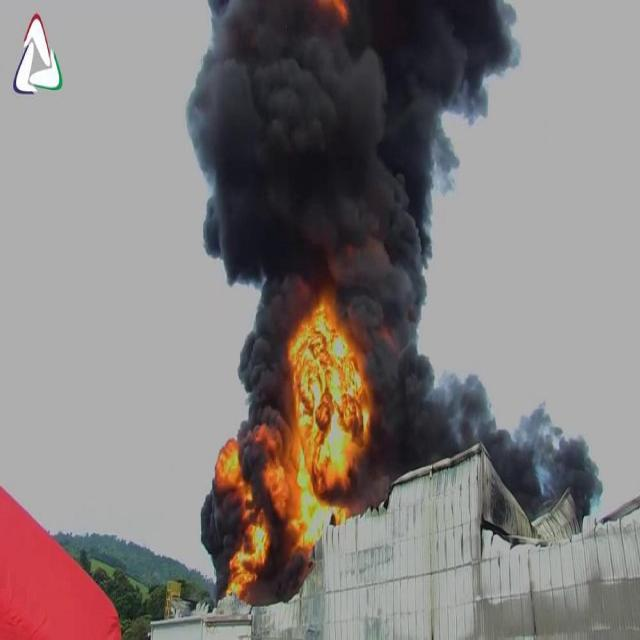Fire: (288, 303, 366, 549), (213, 424, 271, 604)
